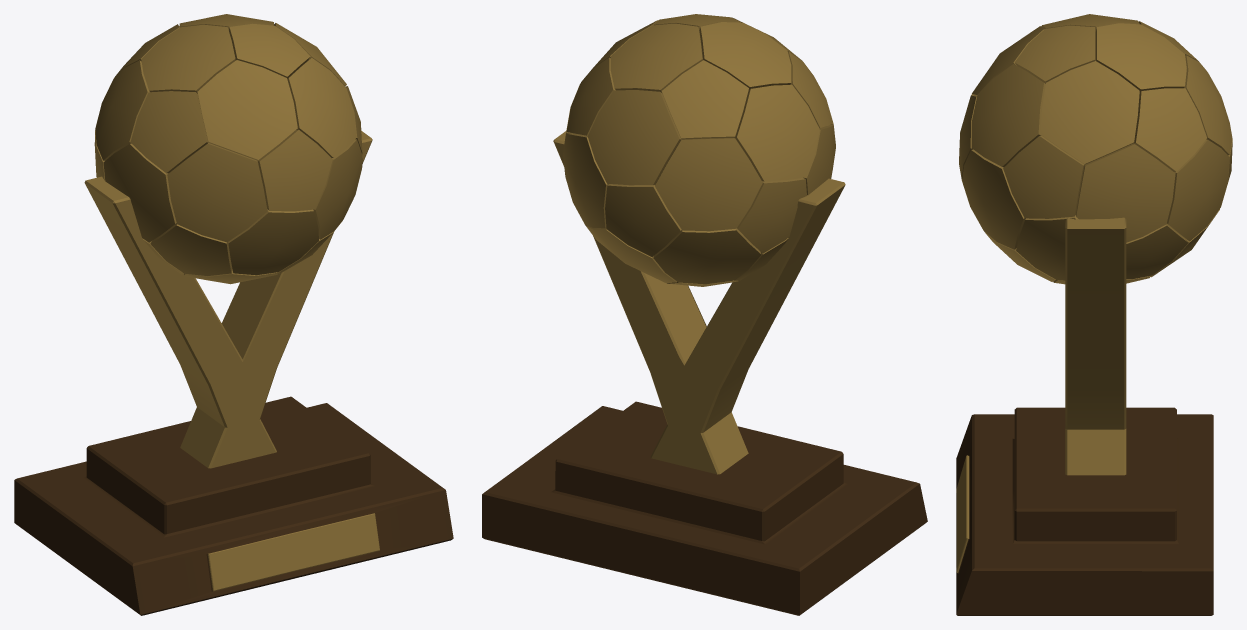
File: SoccerTrophy1.fbx
3 views of the same model, side by side, from view 1: azimuth 30°, elevation 25°; view 2: azimuth 150°, elevation 25°; view 3: azimuth 270°, elevation 25° (orthographic). The views are drawn at different scales.
Parts seen in each view (by area): view 1: SoccerTrophy_1; view 2: SoccerTrophy_1; view 3: SoccerTrophy_1.
Boxes of the visible parts, box(x1,y1,x2,y2) form: SoccerTrophy_1: box(14, 14, 453, 615); SoccerTrophy_1: box(482, 14, 927, 615); SoccerTrophy_1: box(956, 14, 1232, 615).
Size of the model in its own units: 31.54 by 48.28 by 23.64.
